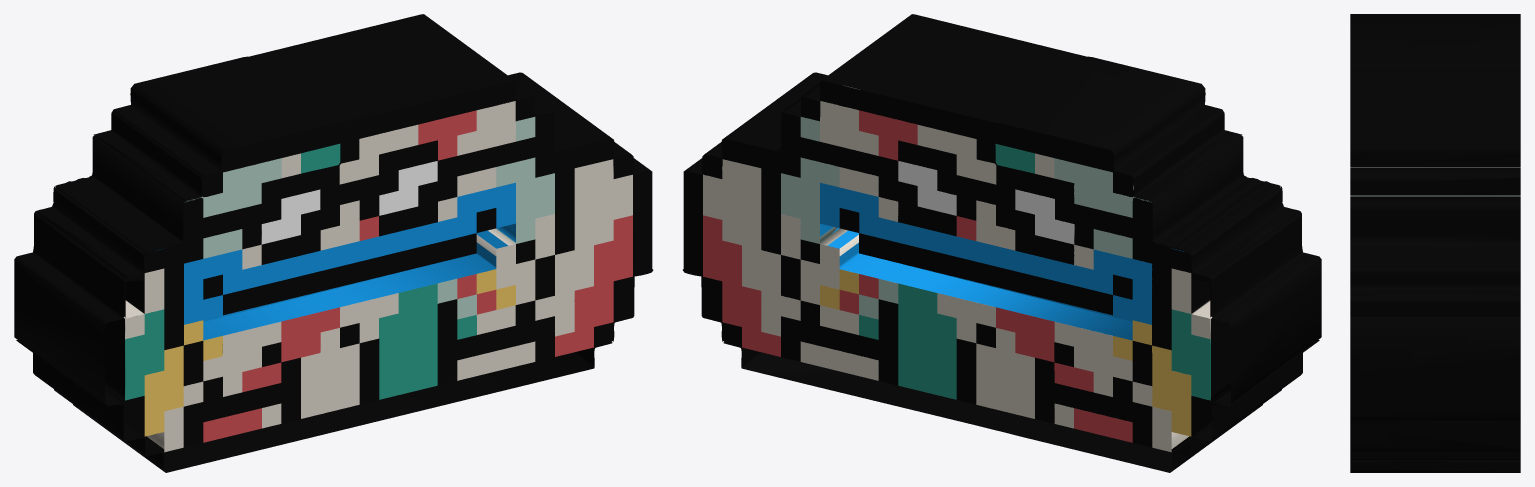
Rendered from Toadz_3972.glb.
3 views of the same model, side by side, from view 1: azimuth 30°, elevation 25°; view 2: azimuth 150°, elevation 25°; view 3: azimuth 270°, elevation 25° (orthographic). The views are drawn at different scales.
Parts seen in each view (by area): view 1: Curve; view 2: Curve; view 3: Curve.
Part boxes in pixels (bbox=[...]): Curve: bbox=[14, 14, 653, 472]; Curve: bbox=[683, 14, 1321, 472]; Curve: bbox=[1350, 14, 1520, 472].
Bounding box in the file's own units: 3.49 × 1.88 × 1.
